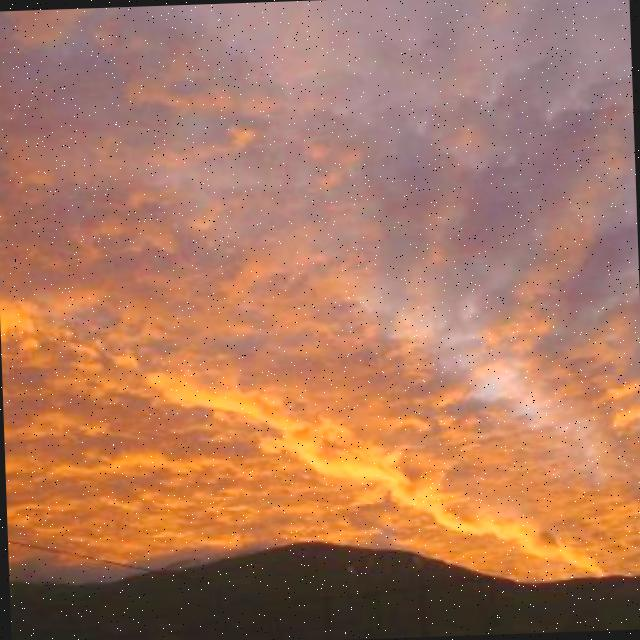Ac: (1, 1, 640, 540)
